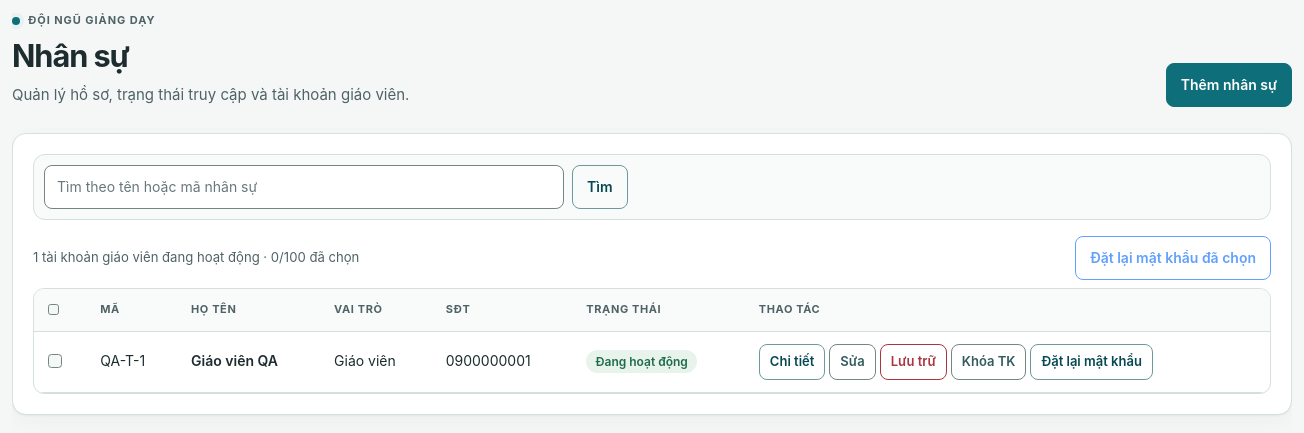
Test: StaffPage account creation › clears staff selection when search input changes
Click the checkbox named "Chọn Giáo viên QA" at (55, 361), box x1=48 y1=354 x2=62 y2=368
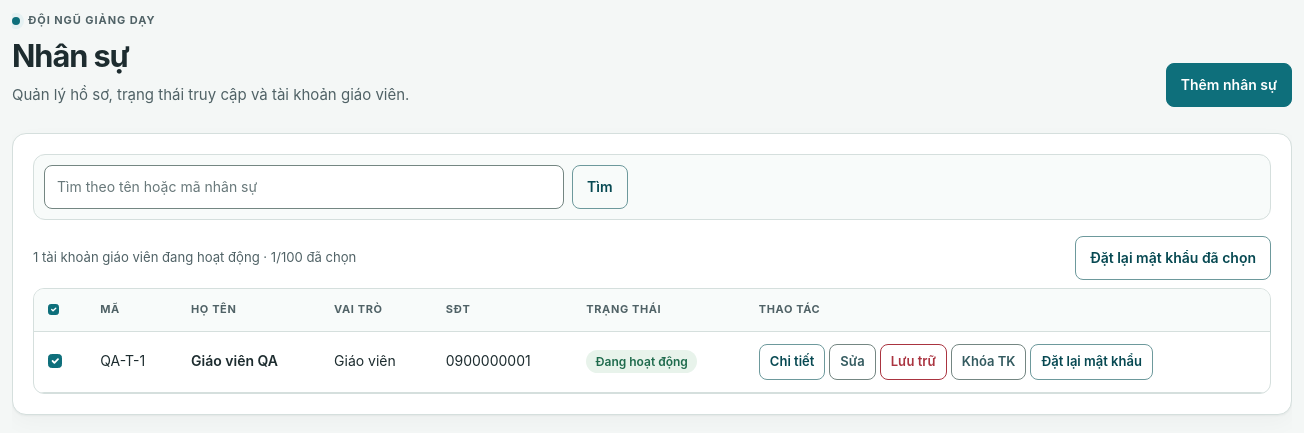
Expected: the text "1/100 đã chọn" is shown, x1=33 y1=250 x2=356 y2=266
Type "QA-T-2" into the field with id "staff-search" at (304, 187), box x1=44 y1=165 x2=564 y2=209
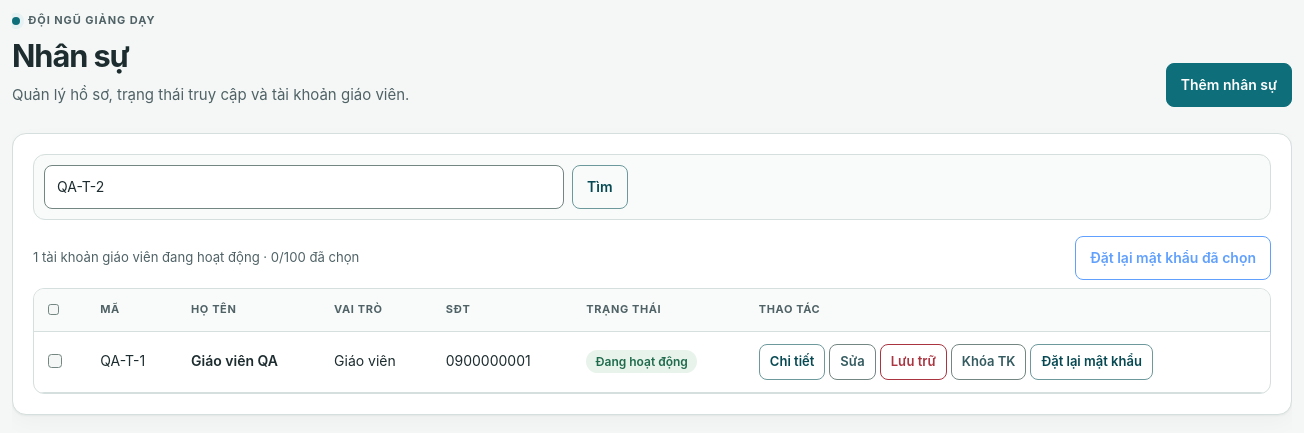
Expected: the text "0/100 đã chọn" is shown, x1=33 y1=250 x2=359 y2=266
Expected: the button with test id "bulk-reset-staff" is disabled, x1=1075 y1=236 x2=1271 y2=280
